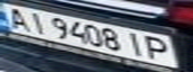0: (84, 23, 103, 48)
4: (66, 19, 87, 43)
8: (103, 25, 124, 52)
9: (45, 14, 72, 39)
A: (3, 6, 33, 30)
I: (24, 9, 51, 35), (124, 29, 148, 57)
P: (142, 34, 175, 62)
